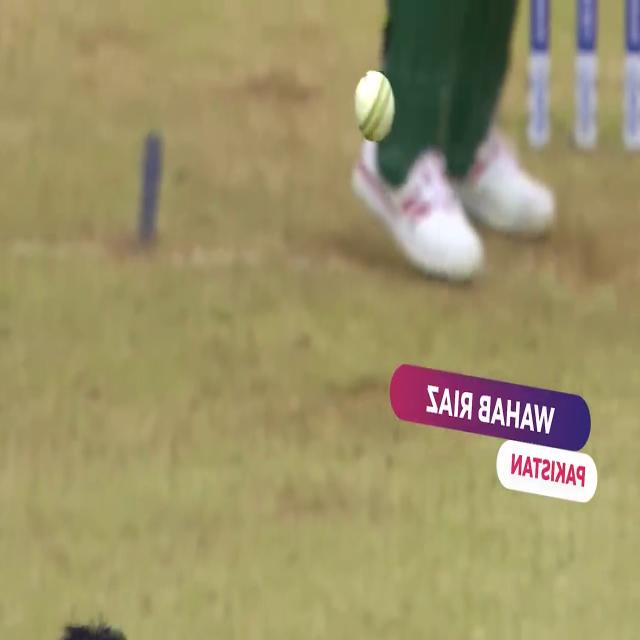ball: (339, 57, 399, 147)
